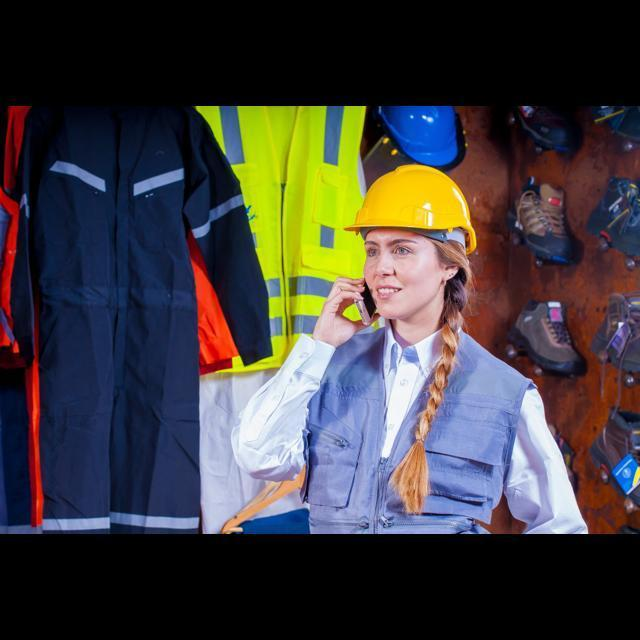Capacete: (345, 165, 475, 254), (378, 106, 464, 167)
Colete: (197, 106, 365, 370)
Pessoa: (232, 165, 586, 532)
